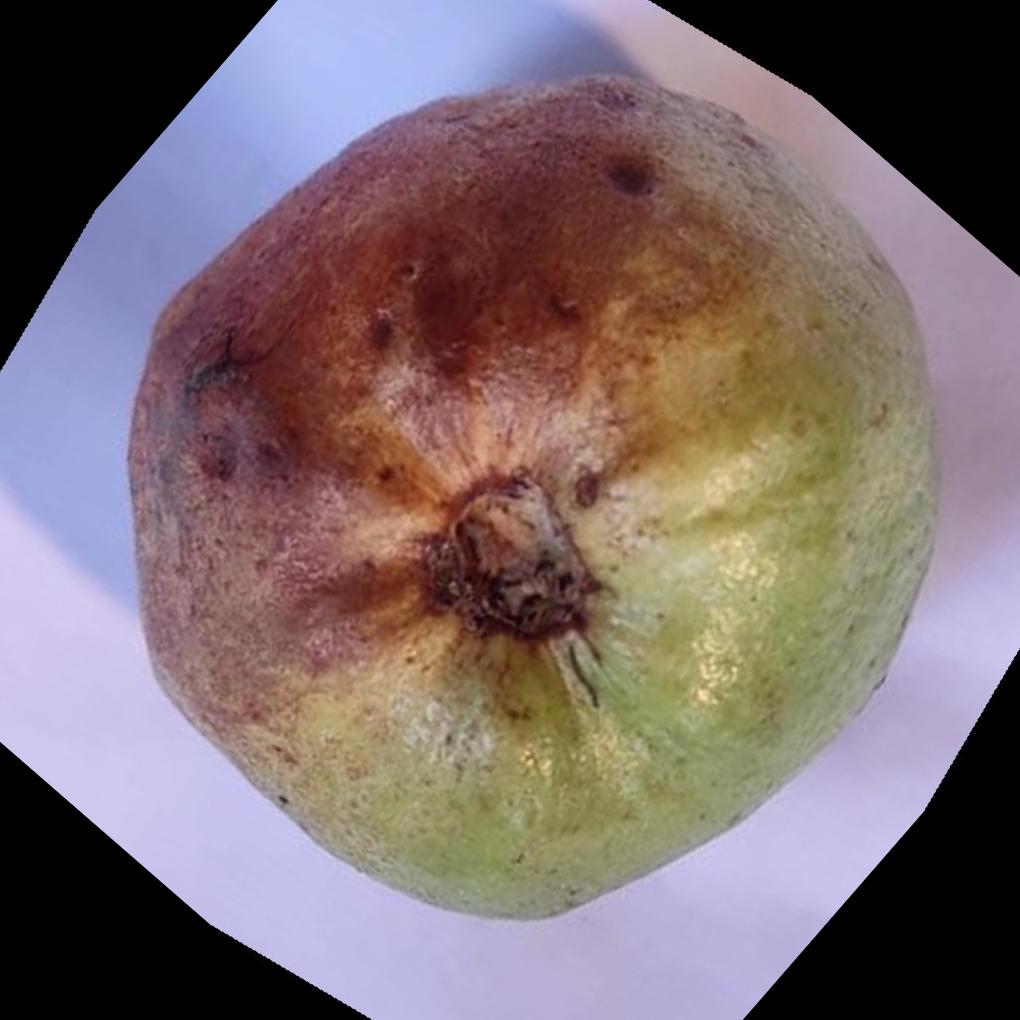FreshOrange: (122, 72, 940, 927)
